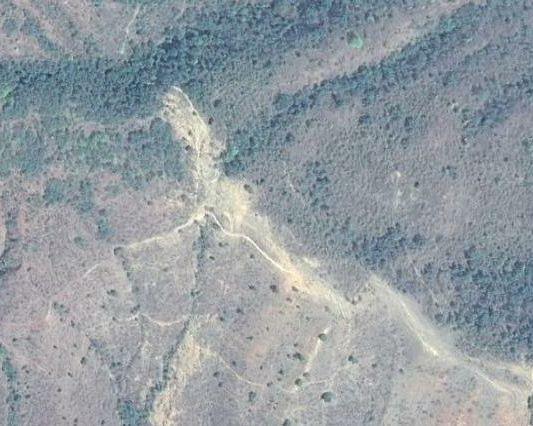slope: (153, 82, 360, 323), (372, 270, 532, 406)
